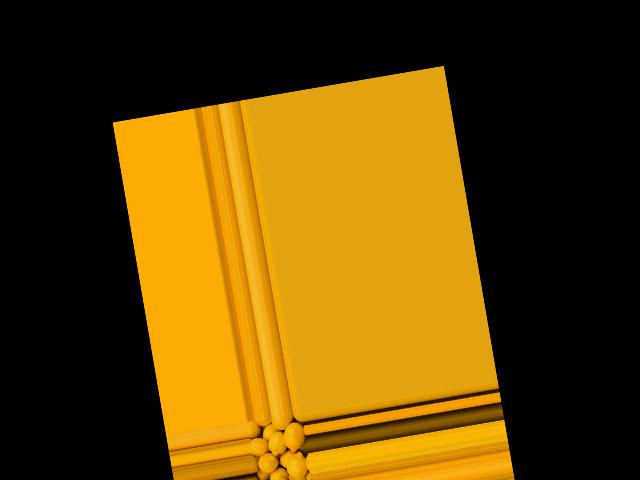lemon: (256, 452, 282, 474)
